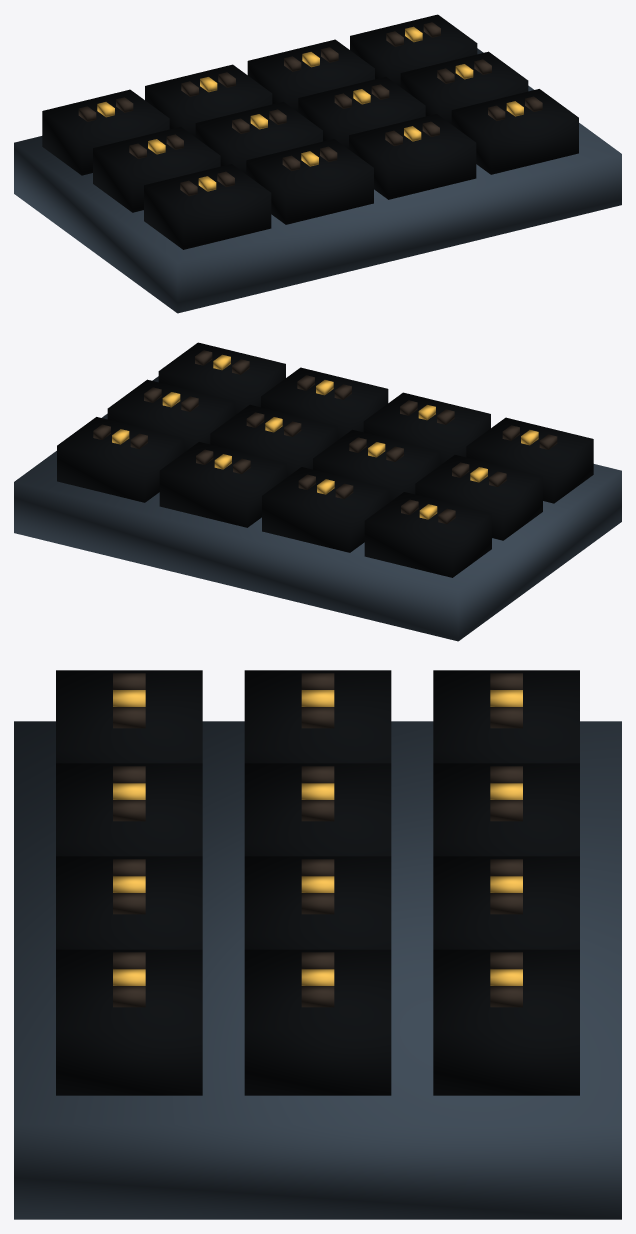
Rendered from 07_L94_ComponentRepairTray.fbx.
3 renders of one model, top to bottom at view 1: azimuth 30°, elevation 25°; view 2: azimuth 150°, elevation 25°; view 3: azimuth 270°, elevation 25°, orthographic. The views are drawn at different scales.
Visible parts, largest first — view 1: L94_ComponentRepairTray; view 2: L94_ComponentRepairTray; view 3: L94_ComponentRepairTray.
Boxes of the visible parts, left/top/right/bottom form: L94_ComponentRepairTray: left=14, top=14, right=621, bottom=313; L94_ComponentRepairTray: left=14, top=342, right=621, bottom=641; L94_ComponentRepairTray: left=14, top=670, right=621, bottom=1219.
Bounding box in the file's own units: 91 × 18.7 × 58.
